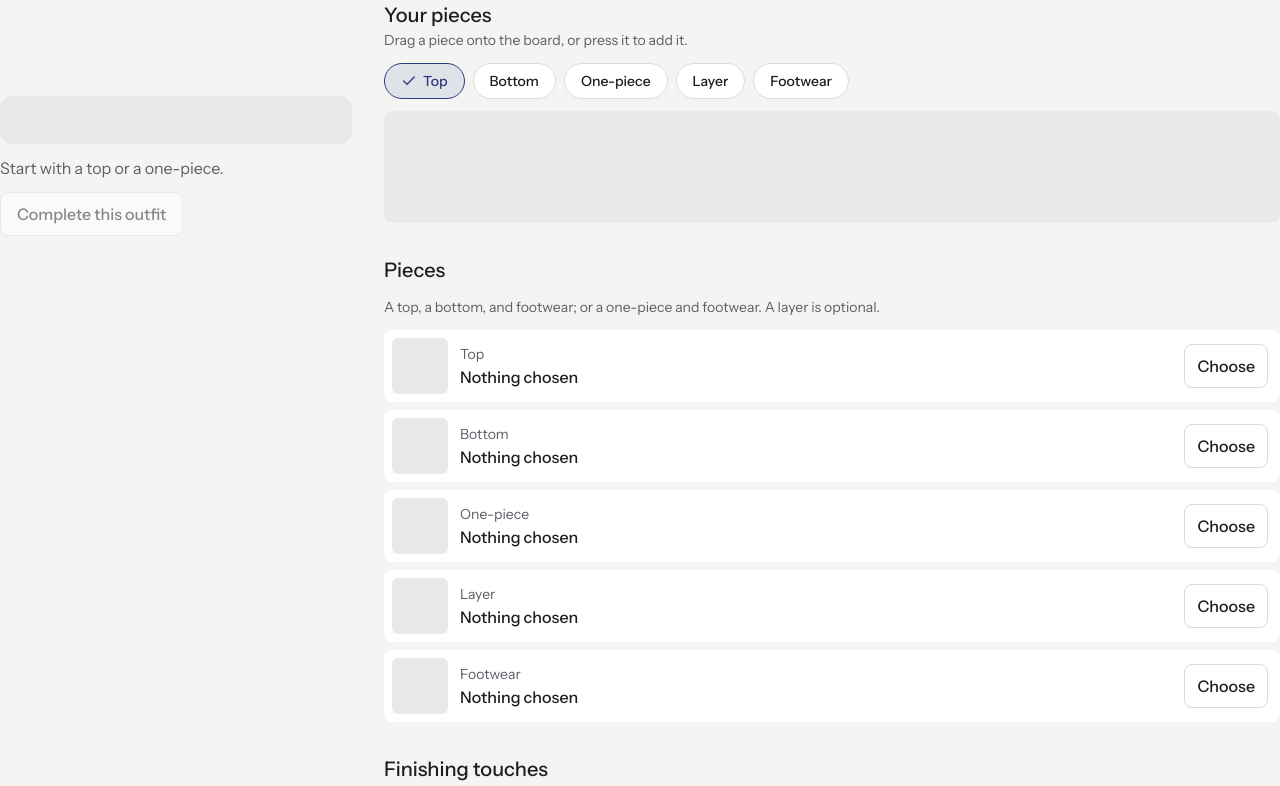
Test: says what's still needed as pieces are chosen
This screenshot has width=1280, height=786.
Expected: the text "Start with a top or a one-piece." is shown, [0,158,224,178]
What coordinates should you click on to do the following:
click the 1st button "Choose"
I would click on:
 (1226, 366)
Its box is [1184,344,1268,388].
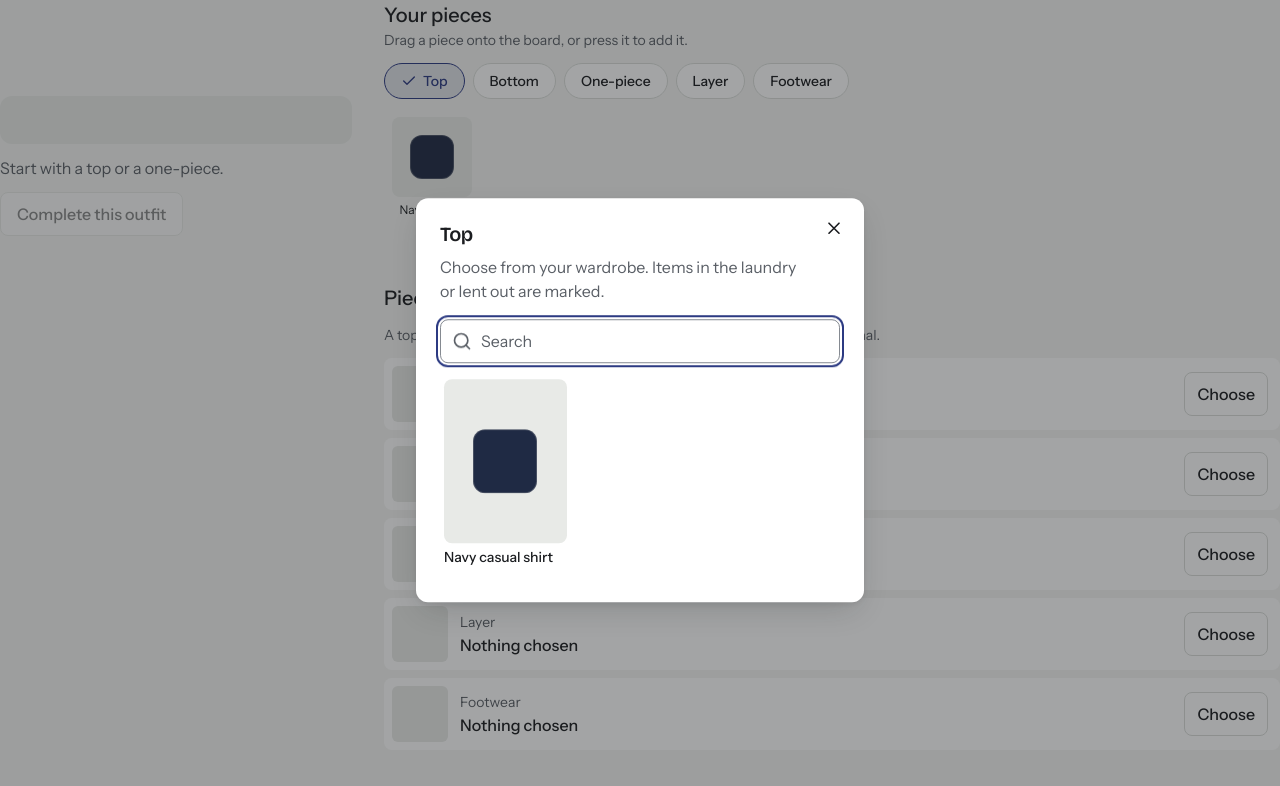
What coordinates should you click on to do the following:
click the button "Navy casual shirt"
I would click on:
 (505, 473)
Its box is [444,379,567,568].
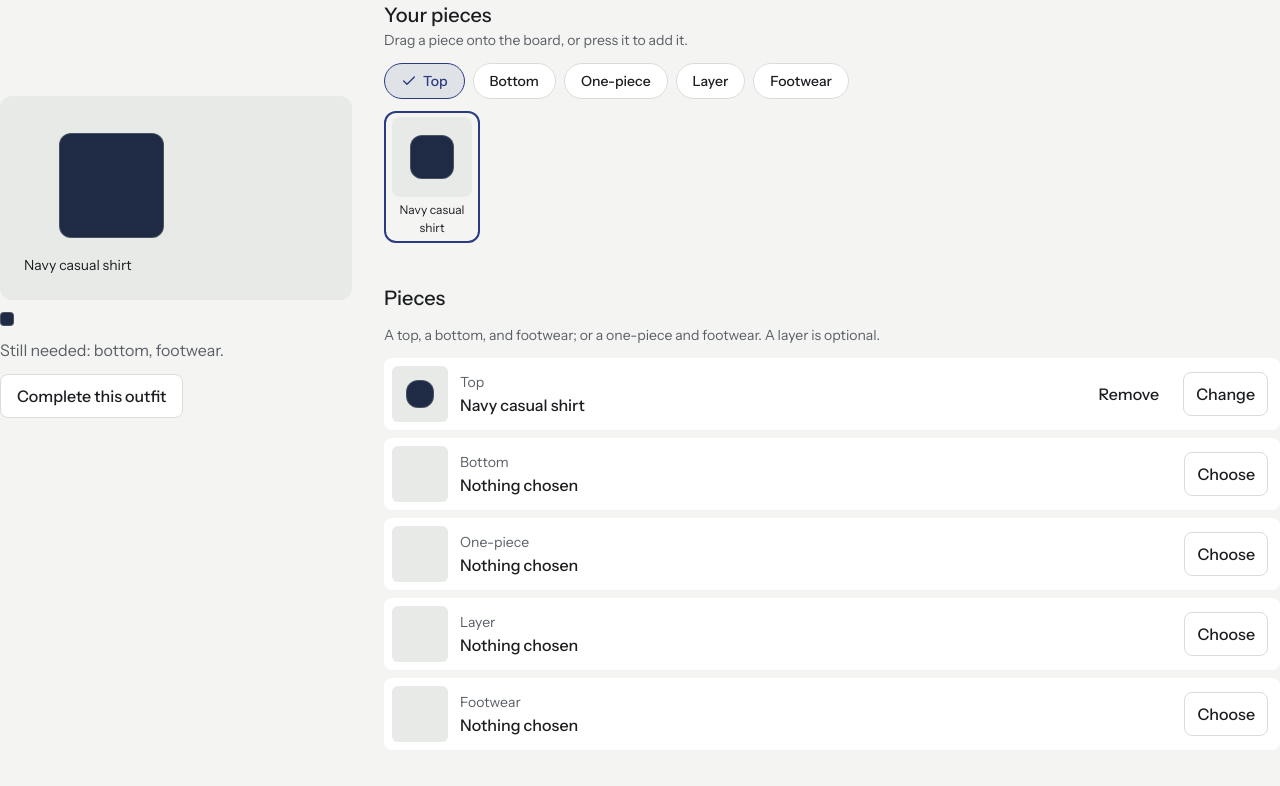
Expected: the dialog is gone
Expected: the text "Still needed: bottom, footwear." is shown, [0,340,224,360]
What coordinates should you click on to do the following:
click the 1st button "Choose"
I would click on:
 (1226, 474)
Its box is [1184,452,1268,496].
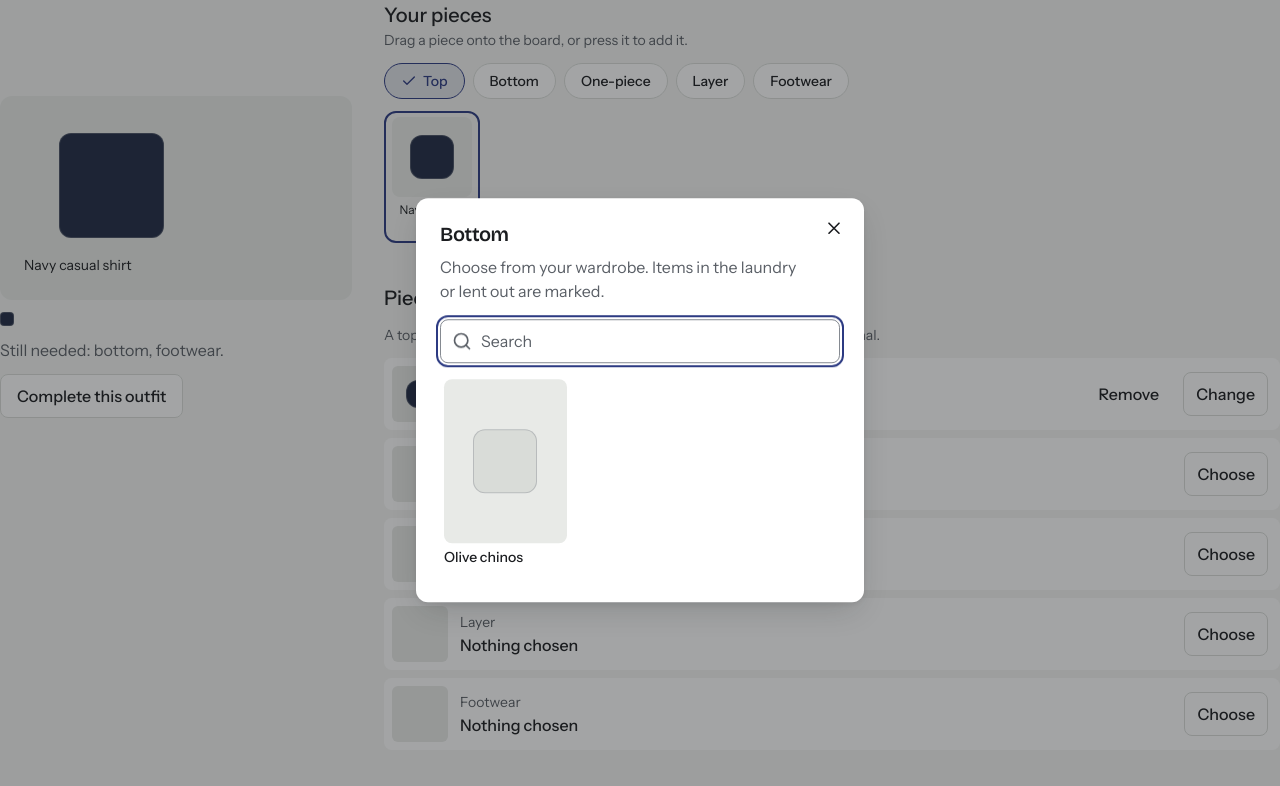
What coordinates should you click on to do the following:
click the button "Olive chinos"
I would click on:
 (505, 473)
Its box is [444,379,567,568].
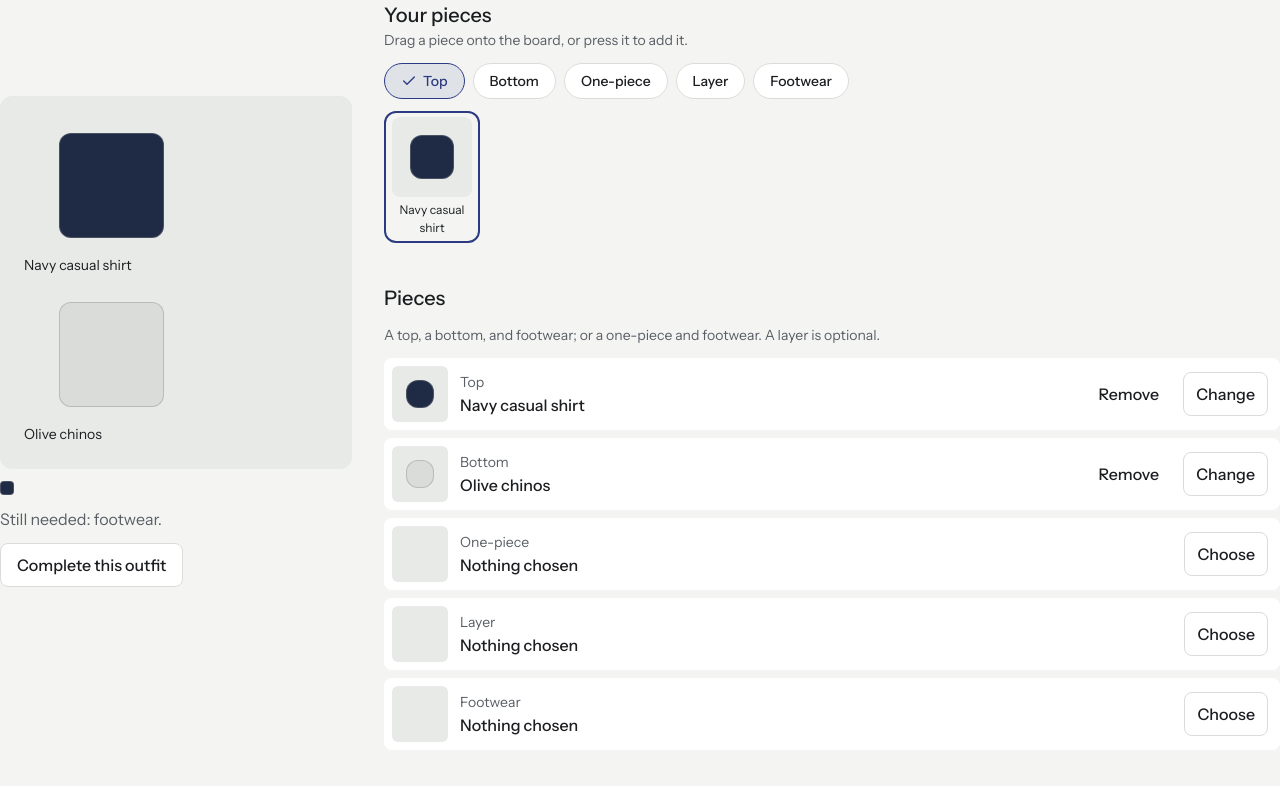
Expected: the dialog is gone
What coordinates should you click on to do the following:
click the 3rd button "Choose"
I would click on:
 (1226, 714)
Its box is [1184,692,1268,736].
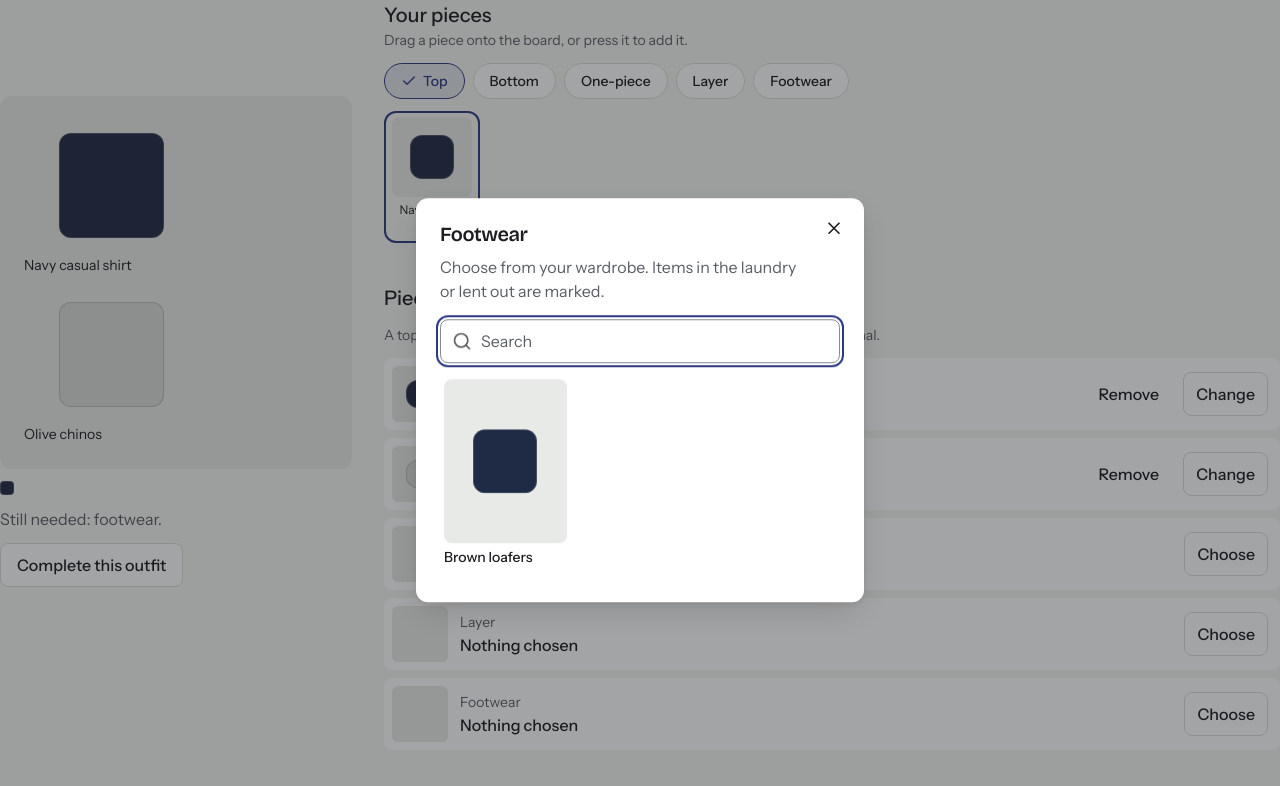
What coordinates should you click on to do the following:
click the button "Brown loafers"
I would click on:
 (505, 473)
Its box is [444,379,567,568].
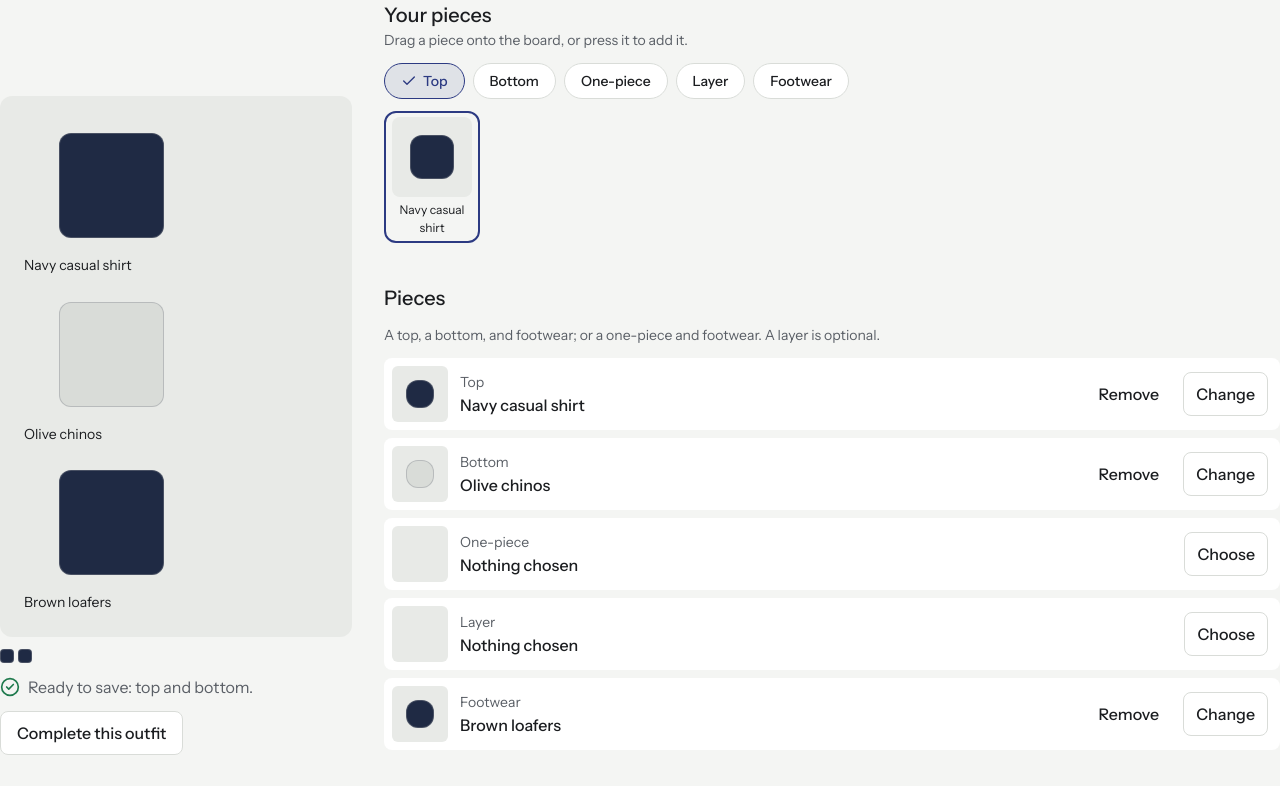
Expected: the dialog is gone
Expected: the text "Ready to save: top and bottom." is shown, [0,677,253,697]
